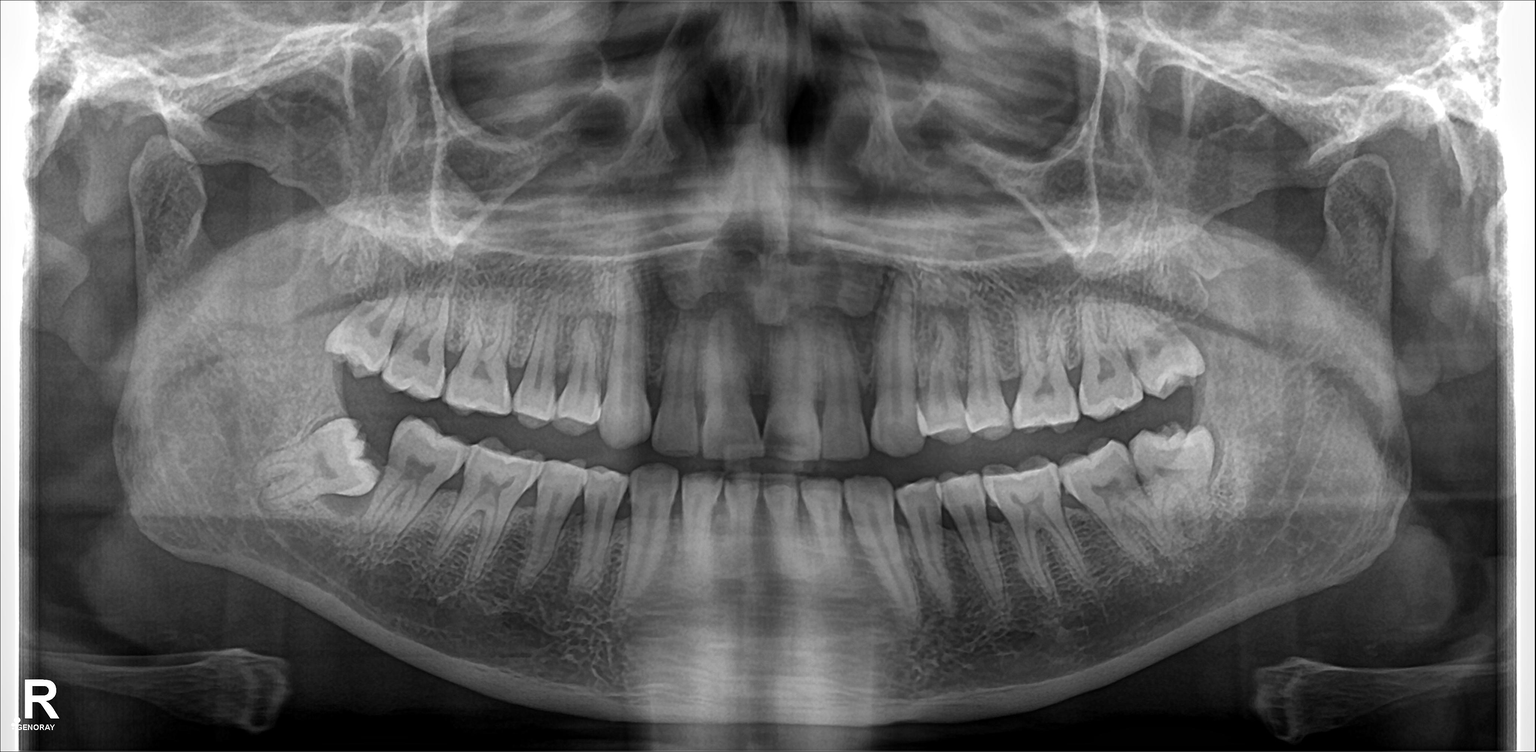Impacted Third Molar: (246, 434, 386, 503)
